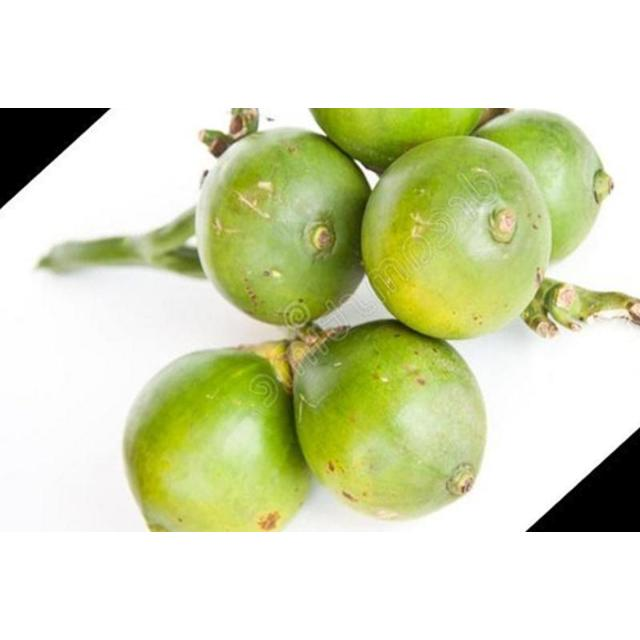good: (136, 322, 484, 532), (196, 122, 368, 322), (376, 142, 550, 328)
